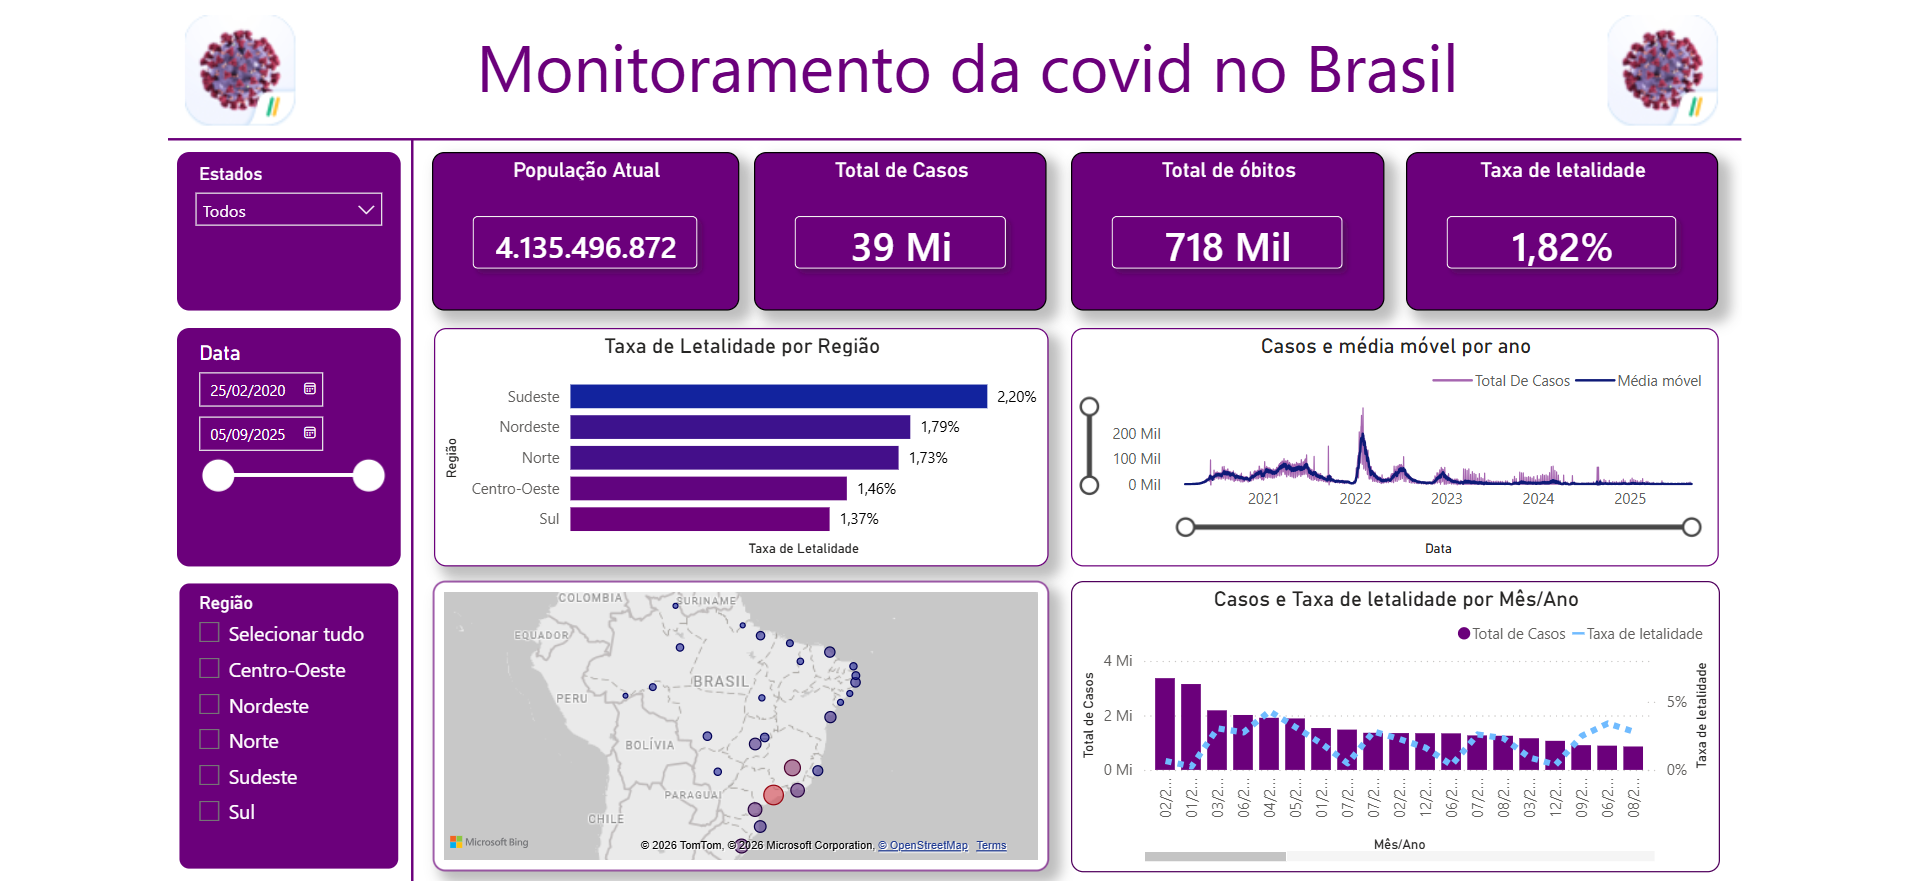

This screenshot's page, from the dashboard's own definition file:
{"tool":"powerbi","page":{"name":"Visão","canvas":[1280,720],"ordinal":0},"visuals":[{"type":"textbox","box":[245.8,14,844.3,89.9],"z":0},{"type":"image","box":[10,14,97.9,89.9],"z":1000},{"type":"image","box":[1160.1,14,111.9,89.9],"z":2000},{"type":"shape","box":[0,104.9,1280,20],"z":3000},{"type":"shape","box":[181.9,114.9,33,605.5],"z":4000},{"type":"slicer","fields":{"Values":["Região.Região"]},"box":[7,474.6,181.9,235.8],"z":5000},{"type":"slicer","fields":{"Values":["Estados.Estados"]},"box":[7,124.9,181.9,128.9],"z":6000},{"type":"slicer","fields":{"Values":["Covid-Brasil.Data"]},"box":[7.3,268.3,181.9,193.8],"z":7000},{"type":"cardVisual","title":"População Atual","fields":{"Data":["Sum(População estimada.População)"]},"box":[214.8,124.9,249.8,128.9],"z":8000},{"type":"cardVisual","title":"Total de Casos","fields":{"Data":["Medidas.TotalDeCasos"]},"box":[477,125.1,238.5,128.8],"z":9000},{"type":"cardVisual","title":"Total de óbitos","fields":{"Data":["Medidas.TotalÓbitos"]},"box":[734.5,125.1,254.8,128.8],"z":10000},{"type":"cardVisual","title":"Taxa de letalidade","fields":{"Data":["Medidas.TaxaLetalidade"]},"box":[1007.5,125.1,253.9,128.8],"z":11000},{"type":"barChart","fields":{"Category":["Covid-Brasil.Região"],"Y":["Medidas.TaxaLetalidade"]},"box":[216.1,268.3,499.6,193.8],"z":12000},{"type":"map","title":"Casos, Óbitos e Letalidade por Região","fields":{"Category":["Estados.Estados"],"Size":["Medidas.TotalDeCasos"]},"box":[215.8,474.6,500.6,235.8],"z":13000},{"type":"lineChart","title":"Casos e média móvel por ano","fields":{"Y":["Medidas.TotalDeCasos","Medidas.Média móvel de TotalDeCasos"],"Category":["Covid-Brasil.Data"]},"box":[734.5,268.4,526.9,194.1],"z":14000},{"type":"lineStackedColumnComboChart","title":"Casos e Taxa de letalidade por Mês/Ano","fields":{"Category":["Covid-Brasil.Mês/Ano"],"Y":["Medidas.TotalDeCasos"],"Y2":["Medidas.TaxaLetalidade"]},"box":[734.5,474.3,527.8,236.7],"z":15000}]}

Visuals, with their boxes on the page's 1280x720 design canvas (x1, y1, x2, y2). These are canvas units, not pixel positions in the 1908x881 screenshot, which may show the page scaled, cropped or inside an application window:
textbox: 246 14 1090 104
image: 10 14 108 104
image: 1160 14 1272 104
shape: 0 105 1280 125
shape: 182 115 215 720
slicer - Região.Região: 7 475 189 710
slicer - Estados.Estados: 7 125 189 254
slicer - Covid-Brasil.Data: 7 268 189 462
"População Atual" cardVisual: 215 125 465 254
"Total de Casos" cardVisual: 477 125 716 254
"Total de óbitos" cardVisual: 734 125 989 254
"Taxa de letalidade" cardVisual: 1008 125 1261 254
barChart - Covid-Brasil.Região x Medidas.TaxaLetalidade: 216 268 716 462
"Casos, Óbitos e Letalidade por Região" map: 216 475 716 710
"Casos e média móvel por ano" lineChart: 734 268 1261 462
"Casos e Taxa de letalidade por Mês/Ano" lineStackedColumnComboChart: 734 474 1262 711
